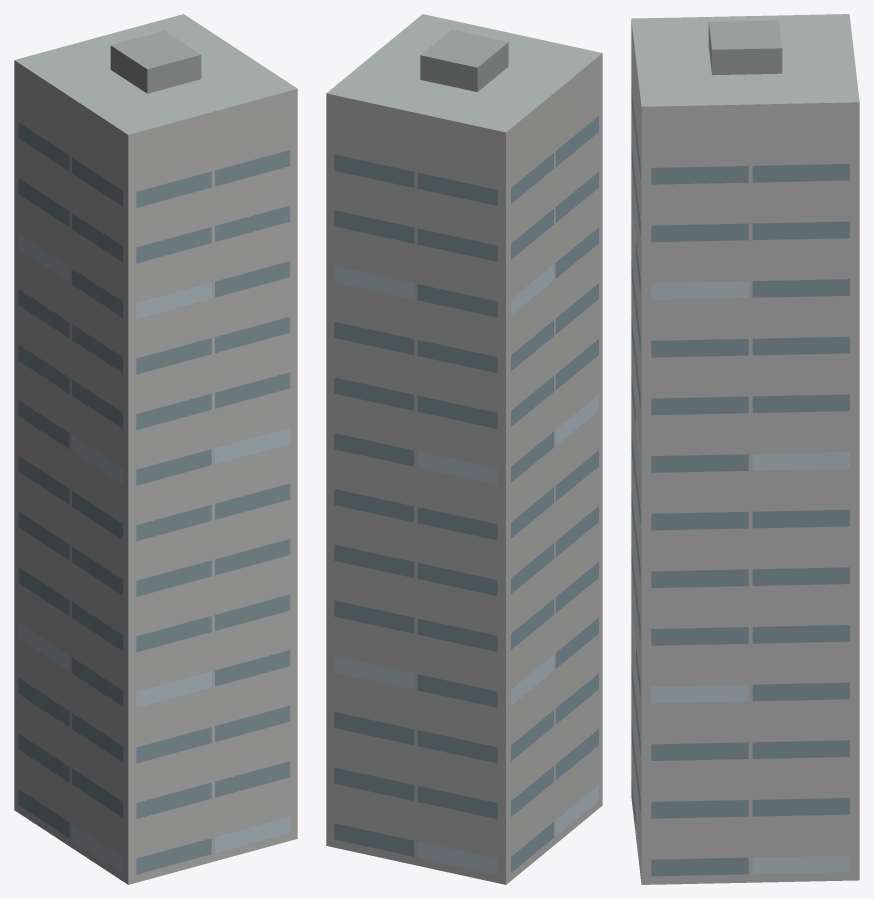
The model's file is fallback-gwanak-dream-town-121.glb.
3 renders of one model, left to right at view 1: azimuth 30°, elevation 25°; view 2: azimuth 150°, elevation 25°; view 3: azimuth 270°, elevation 25°, orthographic. The views are drawn at different scales.
Parts seen in each view (by area): view 1: fallback-gwanak-dream-town-121; view 2: fallback-gwanak-dream-town-121; view 3: fallback-gwanak-dream-town-121.
Part boxes in pixels (x1,y1,x2,y2): fallback-gwanak-dream-town-121: [14, 14, 297, 884]; fallback-gwanak-dream-town-121: [326, 14, 602, 884]; fallback-gwanak-dream-town-121: [631, 14, 859, 884].
Bounding box in the file's own units: 18.84 × 76 × 19.59.
